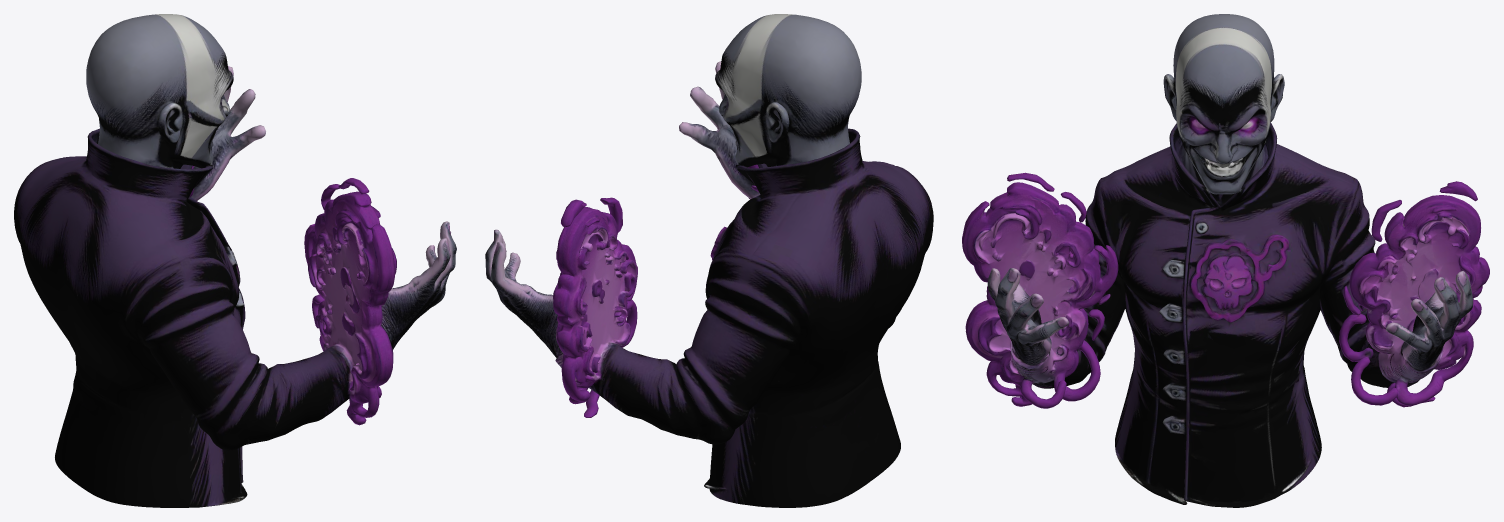
Rendered from dr.malice3dskin1.glb.
3 renders of one model, left to right at view 1: azimuth 30°, elevation 25°; view 2: azimuth 150°, elevation 25°; view 3: azimuth 270°, elevation 25°, orthographic. The views are drawn at different scales.
Visible parts, largest first — view 1: tripo_node_547e85cf-dcc4-4927-b8b7-e141d3376b6e; view 2: tripo_node_547e85cf-dcc4-4927-b8b7-e141d3376b6e; view 3: tripo_node_547e85cf-dcc4-4927-b8b7-e141d3376b6e.
Boxes of the visible parts, x1,y1,x2,y2 form: tripo_node_547e85cf-dcc4-4927-b8b7-e141d3376b6e: [14, 14, 456, 507]; tripo_node_547e85cf-dcc4-4927-b8b7-e141d3376b6e: [485, 14, 933, 507]; tripo_node_547e85cf-dcc4-4927-b8b7-e141d3376b6e: [962, 14, 1489, 507].
Bounding box in the file's own units: 0.621 × 0.9446 × 1.
Materials: 1 (1 with a texture image).
